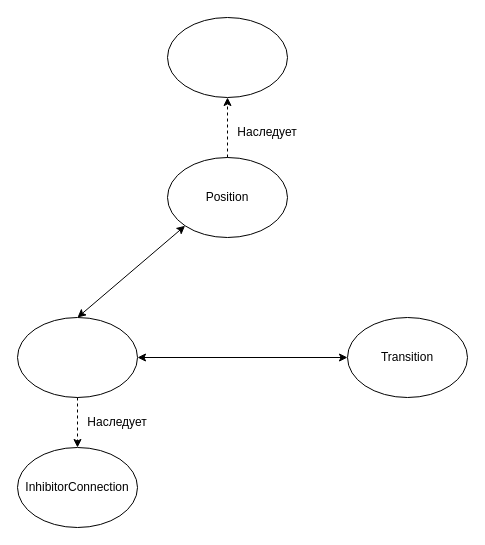
This 485x545 diagram has some shape labels left out. The shapes that lost their labels are listed below. From the top down, each one's centre as x and y in pixels, then its label:
At [227,57]: "PositionGenerator".
At [77,357]: "Connection".
